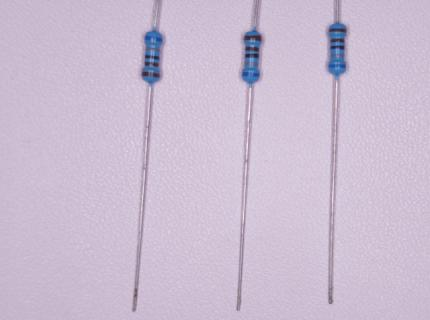Black band: (245, 53, 260, 59), (330, 44, 345, 50), (145, 55, 160, 60)
Blue band: (145, 36, 163, 42), (242, 72, 260, 77), (328, 64, 346, 68)
Brown band: (243, 35, 262, 41), (245, 46, 260, 52), (142, 72, 160, 77), (144, 62, 159, 67), (329, 28, 347, 32), (330, 38, 344, 43)
Grey band: (145, 47, 160, 52), (244, 62, 259, 66), (330, 54, 344, 58)
